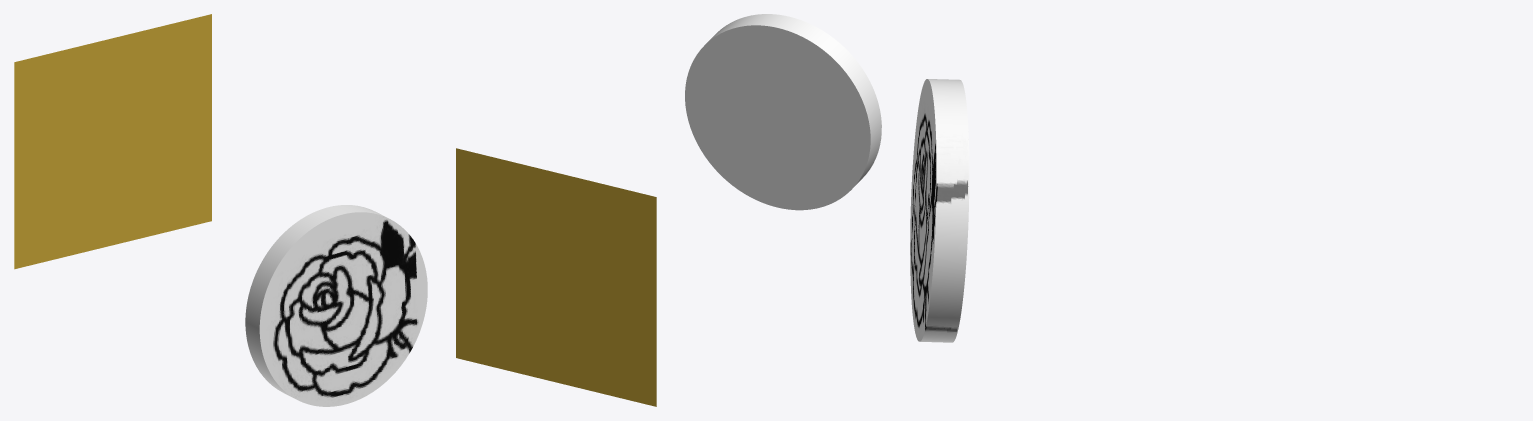
The model's file is Gold_white06_3d.glb.
3 renders of one model, left to right at view 1: azimuth 30°, elevation 25°; view 2: azimuth 150°, elevation 25°; view 3: azimuth 270°, elevation 25°, orthographic. The views are drawn at different scales.
Visible parts, largest first — view 1: mesh_id1, mesh_id44; view 2: mesh_id1, mesh_id44; view 3: mesh_id44.
Boxes of the visible parts, <box> form: mesh_id1: <box>14,14,211,269</box>; mesh_id44: <box>245,205,427,406</box>; mesh_id1: <box>456,148,656,406</box>; mesh_id44: <box>685,14,881,210</box>; mesh_id44: <box>910,79,969,342</box>.
Size of the model in its own units: 0.1 by 0.1 by 0.2058.
Materials: 2 (2 with a texture image).
